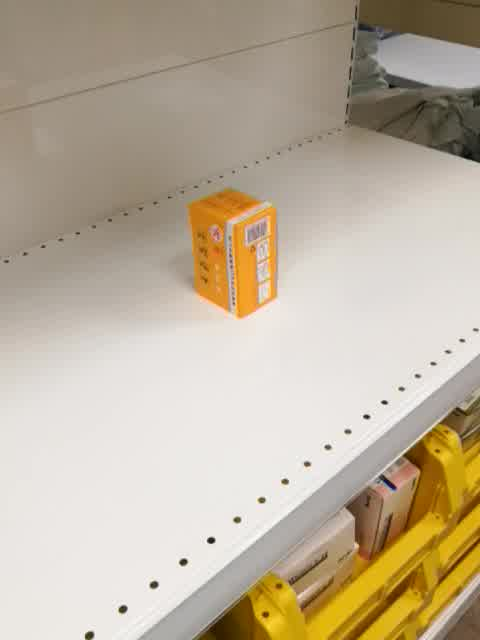jasminetea: (188, 187, 280, 319)
